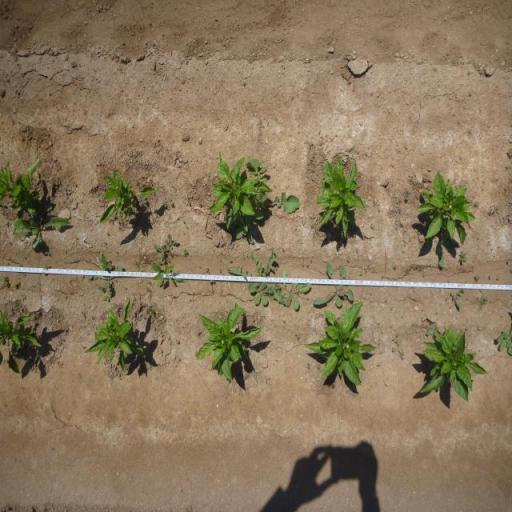plant: (305, 298, 378, 386), (418, 322, 488, 406), (198, 300, 264, 386), (416, 170, 476, 244), (84, 300, 144, 372), (316, 156, 366, 238), (204, 151, 261, 218), (97, 167, 158, 224), (0, 308, 43, 377), (0, 152, 43, 212)
weed: (234, 157, 301, 243), (12, 213, 69, 249), (311, 263, 355, 307), (85, 252, 125, 293), (226, 248, 278, 276), (282, 270, 312, 312), (154, 232, 178, 261), (495, 319, 512, 358), (151, 262, 175, 289), (247, 281, 269, 308), (448, 288, 466, 309), (268, 282, 283, 305), (425, 326, 439, 336), (459, 250, 469, 264), (1, 275, 10, 289), (393, 334, 401, 346), (140, 194, 148, 205), (102, 294, 112, 302), (12, 278, 19, 289), (148, 307, 156, 316), (479, 293, 488, 301), (44, 248, 51, 258), (328, 382, 336, 390), (54, 180, 60, 190), (182, 246, 188, 256), (186, 200, 193, 208), (404, 193, 410, 201), (474, 200, 480, 206), (44, 264, 50, 269), (475, 274, 480, 280), (175, 338, 179, 344), (209, 279, 215, 283), (306, 364, 310, 370), (317, 364, 321, 370), (370, 222, 374, 228), (394, 264, 398, 270), (358, 270, 362, 276), (195, 331, 200, 335), (392, 348, 396, 353), (170, 199, 172, 206)
